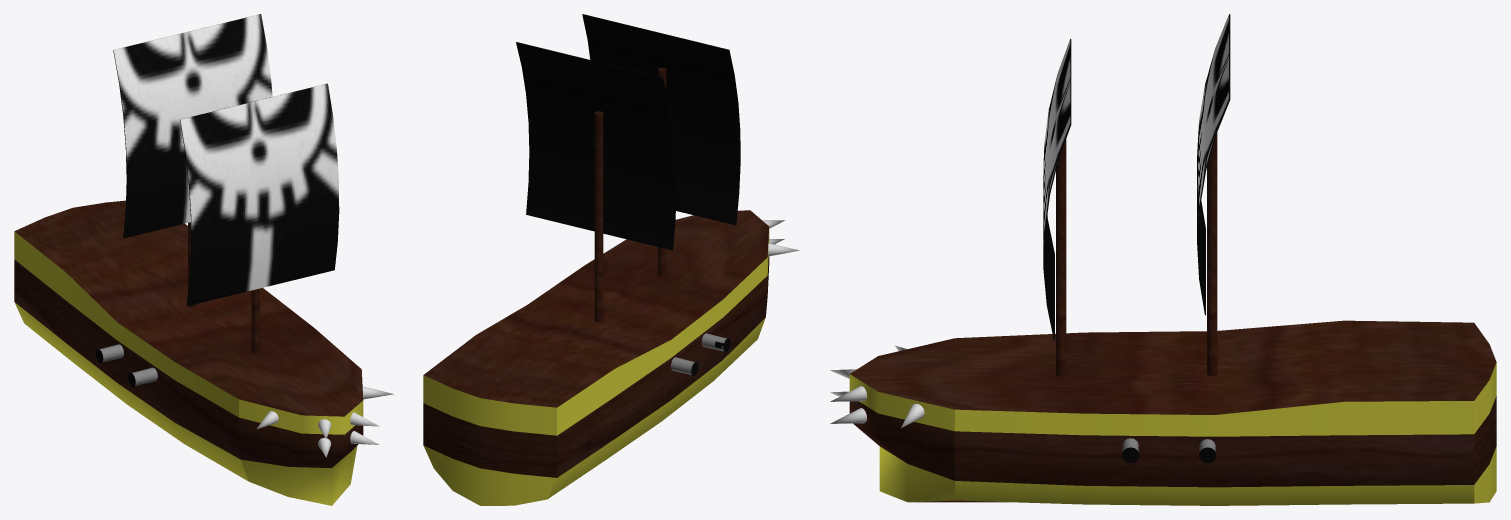
File: BB_Ship_Ryan 1.fbx
3 views of the same model, side by side, from view 1: azimuth 30°, elevation 25°; view 2: azimuth 150°, elevation 25°; view 3: azimuth 270°, elevation 25° (orthographic). The views are drawn at different scales.
Visible parts, largest first — view 1: pCube1, pCube2, pCube3, pCylinder1; view 2: pCube1, pCube3, pCube2, pCylinder2; view 3: pCube1, pCube3, pCube2, pCylinder2, pCylinder1.
Part boxes in pixels (x1,y1,x2,y2): pCube1: (14, 200, 363, 505); pCube2: (180, 83, 339, 305); pCube3: (113, 14, 272, 238); pCylinder1: (251, 288, 259, 353); pCube1: (423, 210, 769, 505); pCube3: (516, 42, 676, 250); pCube2: (582, 14, 740, 225); pCylinder2: (594, 111, 603, 322); pCube1: (849, 320, 1496, 505); pCube3: (1197, 14, 1230, 315); pCube2: (1043, 39, 1071, 340); pCylinder2: (1207, 132, 1217, 375); pCylinder1: (1056, 139, 1066, 375).
Size of the model in its own units: 2.7 by 5.23 by 7.26.
Materials: 6 (2 with a texture image).
